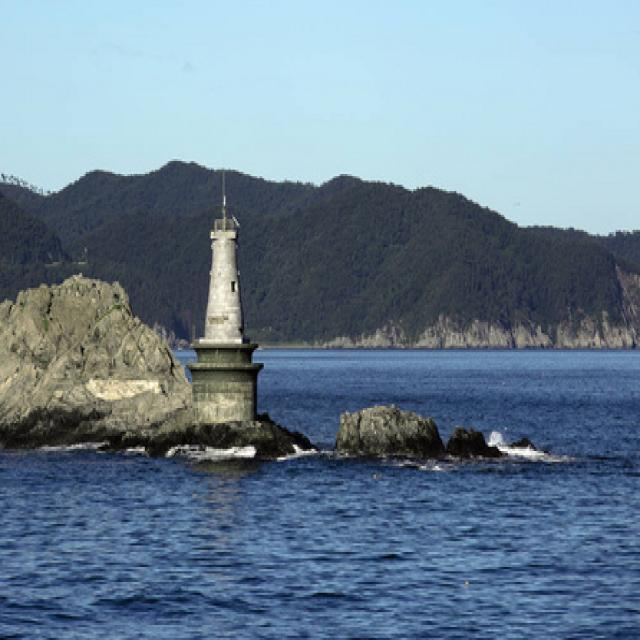island: (0, 136, 640, 368)
